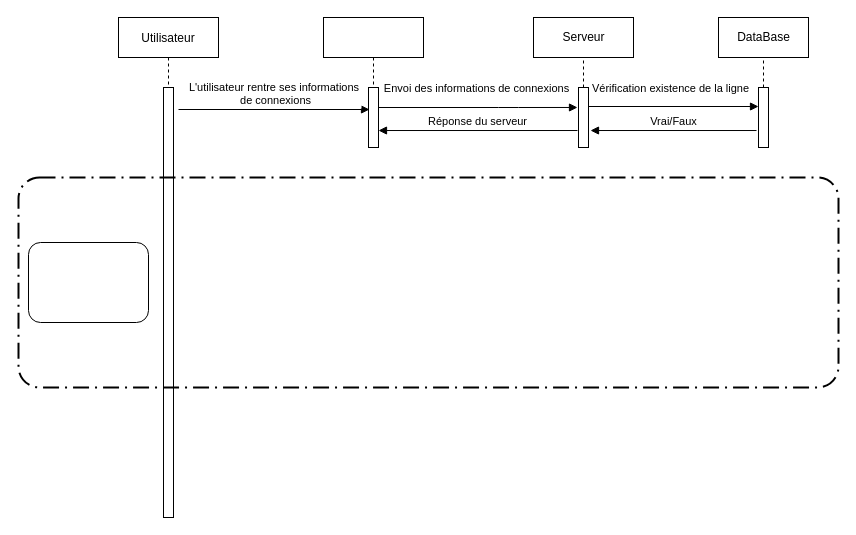
Some shapes in this 856 by 535 pixel diagram are drawn without their labels. Each missing label, with the box of its shape:
Application: (322, 16, 424, 88)
Faire ses courses: (28, 242, 148, 322)
